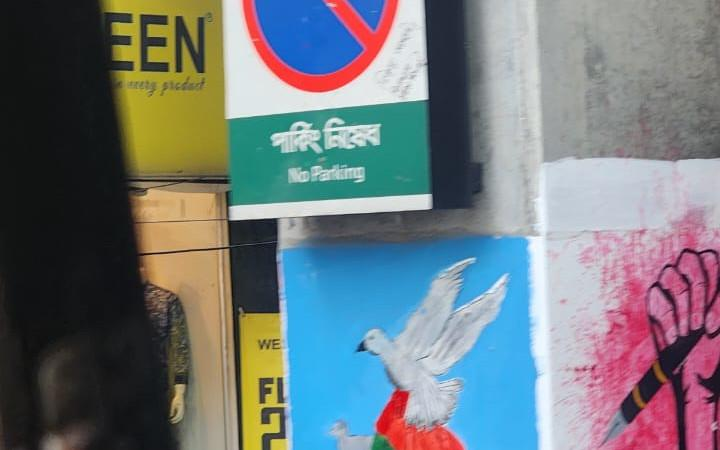No Parking: (219, 0, 440, 214)
